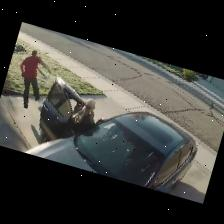person: (19, 50, 49, 107), (69, 99, 94, 134)
